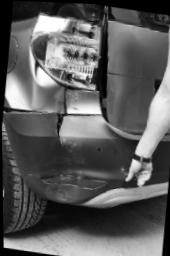Bumper: (7, 112, 120, 204)
Fender: (6, 48, 102, 117)
Light: (27, 13, 102, 90)
